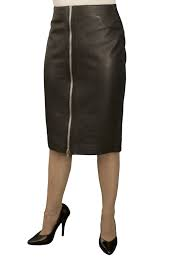S_skirt: (37, 1, 131, 161)
